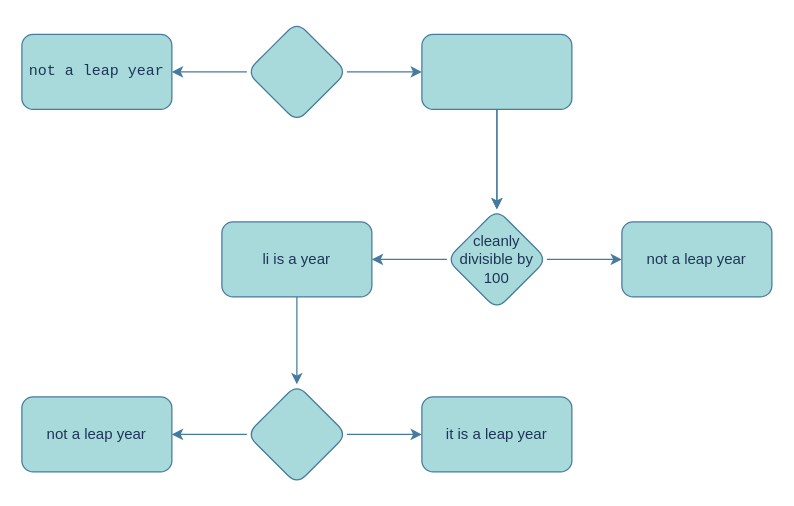
Image size: 794x506. Some labels were removed from this diagram. The centre of each missing label's shape, as x and y in pixels:
cleanly diviisible by 4: the point at 296,71
cleanly divisible by 400: the point at 296,433
it is leap year: the point at 496,71
